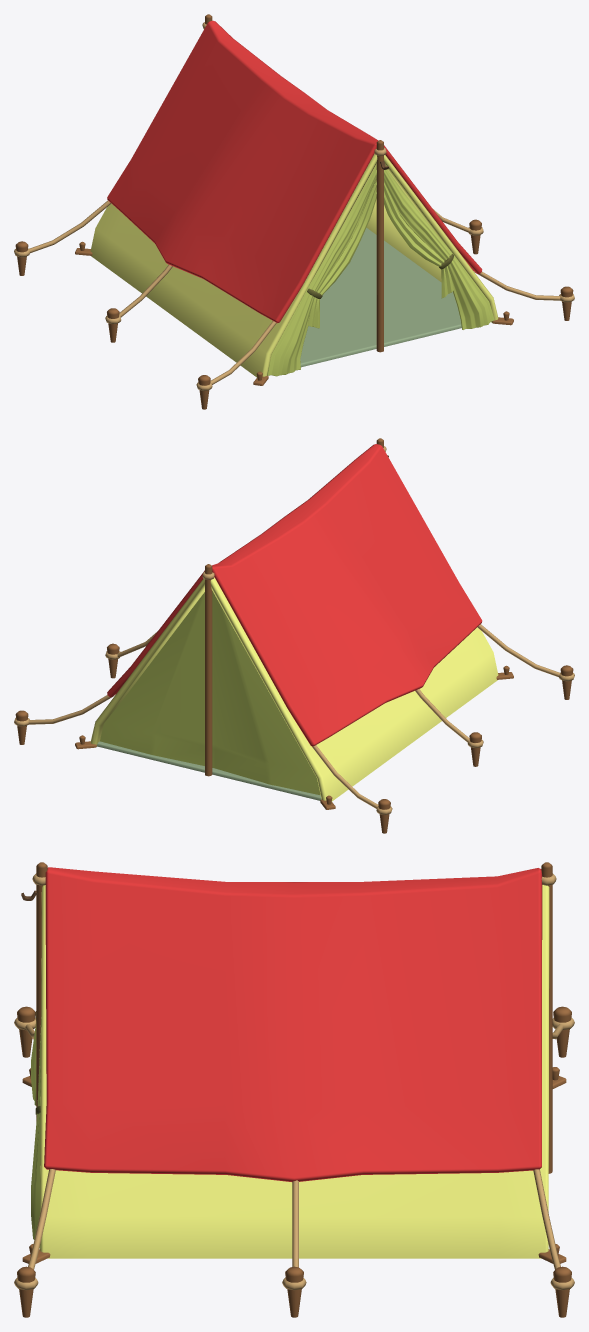
Rendered from tent _red_normal.fbx.
3 views of the same model, one above another, from view 1: azimuth 30°, elevation 25°; view 2: azimuth 150°, elevation 25°; view 3: azimuth 270°, elevation 25° (orthographic). The views are drawn at different scales.
Visible parts, largest first — view 1: tent_red_normal; view 2: tent_red_normal; view 3: tent_red_normal.
Part boxes in pixels (left/top/right/bottom): tent_red_normal: left=14, top=14, right=574, bottom=409; tent_red_normal: left=14, top=438, right=574, bottom=833; tent_red_normal: left=14, top=862, right=574, bottom=1317.
Bounding box in the file's own units: 277 × 154 × 243.
